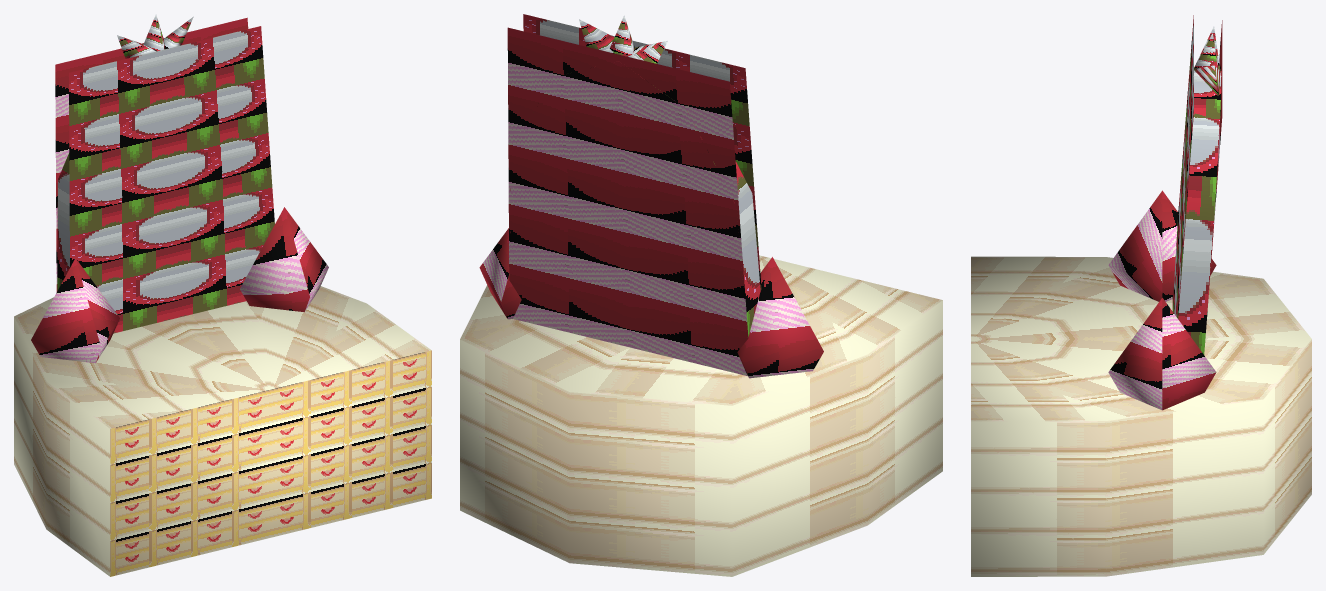
File: 3144IMFY02_06.gltf
3 renders of one model, left to right at view 1: azimuth 30°, elevation 25°; view 2: azimuth 150°, elevation 25°; view 3: azimuth 270°, elevation 25°, orthographic. The views are drawn at different scales.
Parts seen in each view (by area): view 1: 3144IMFY02_06; view 2: 3144IMFY02_06; view 3: 3144IMFY02_06.
Boxes of the visible parts, <box> form: 3144IMFY02_06: <box>14,14,431,576</box>; 3144IMFY02_06: <box>460,14,942,576</box>; 3144IMFY02_06: <box>971,15,1311,576</box>.
Bounding box in the file's own units: 0.9502 × 1.24 × 0.8306.
Materials: 4 (4 with a texture image).
